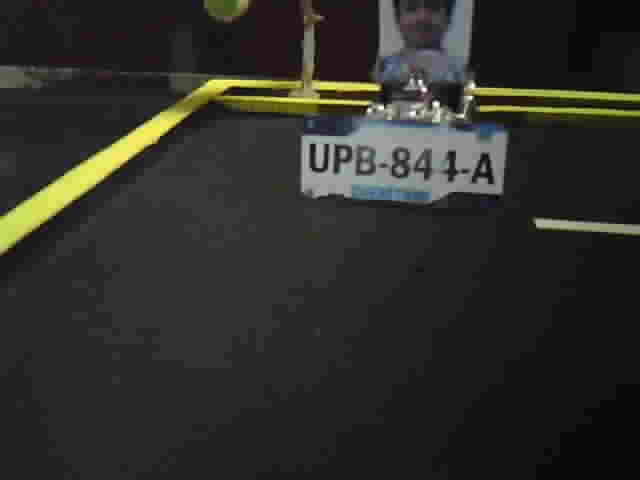PLACA: (298, 114, 510, 214)
ROSTRO: (381, 1, 468, 82)
